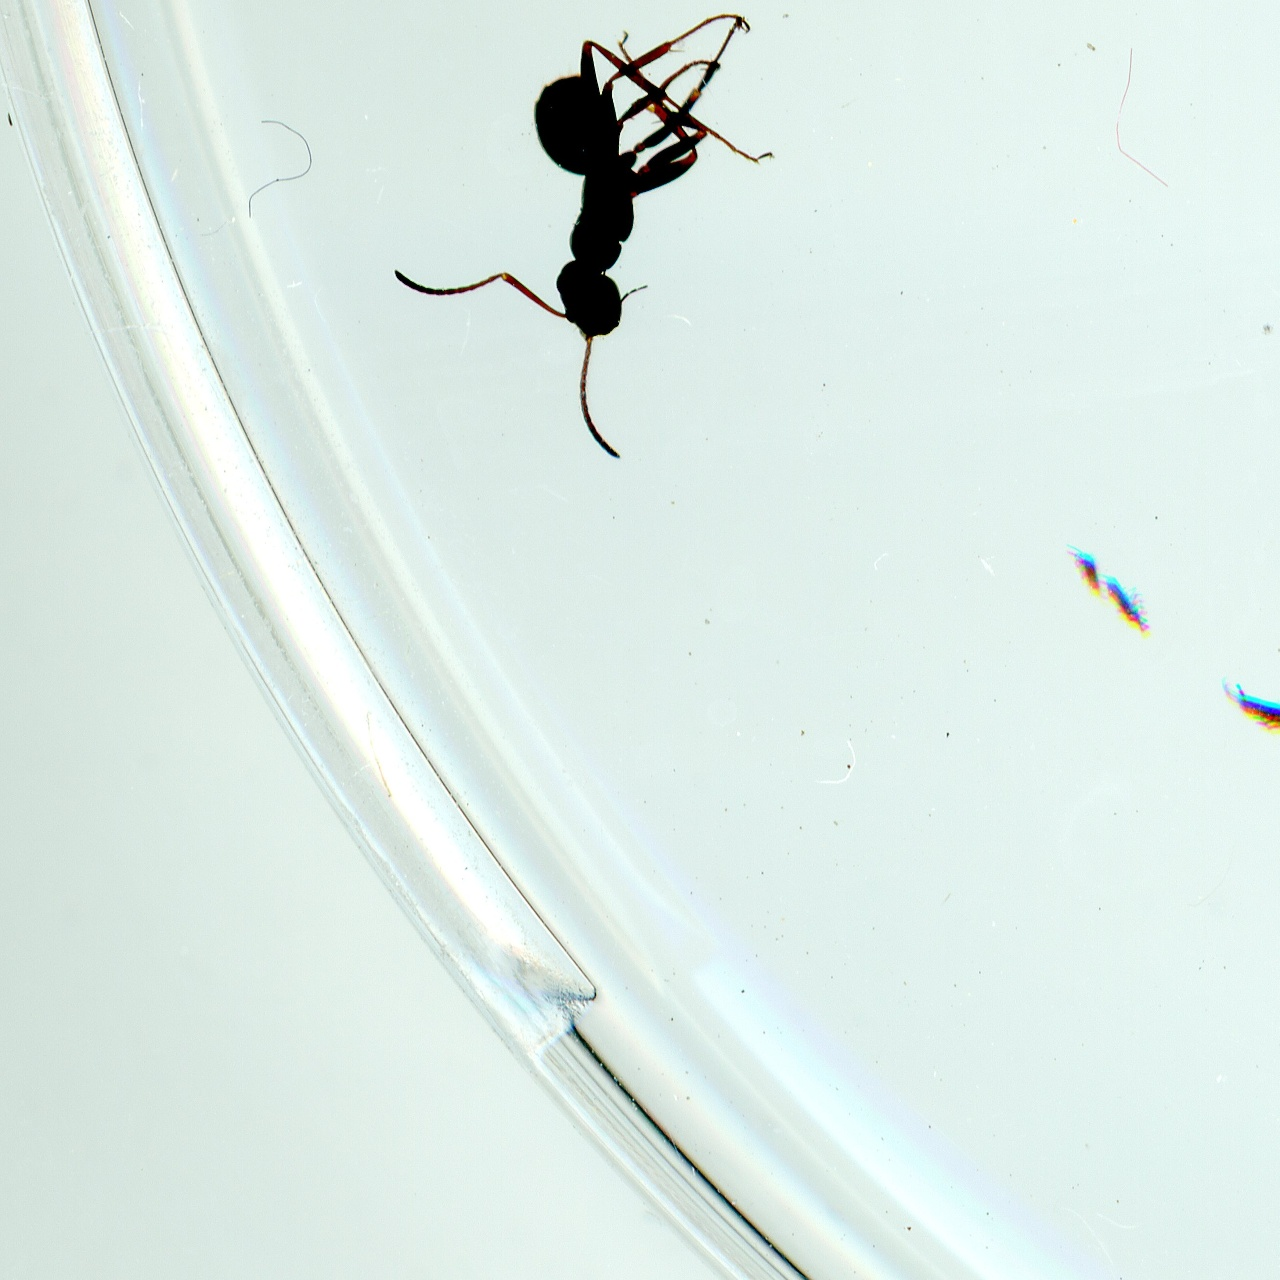arthropod: (356, 2, 794, 477), (1094, 558, 1165, 647), (1216, 669, 1280, 753), (1064, 540, 1101, 598)
